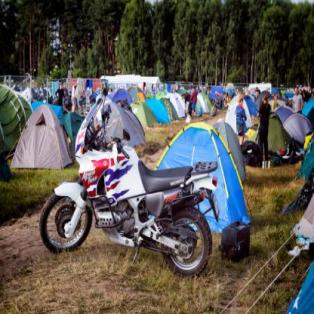Motocicleta: (45, 122, 218, 276)
